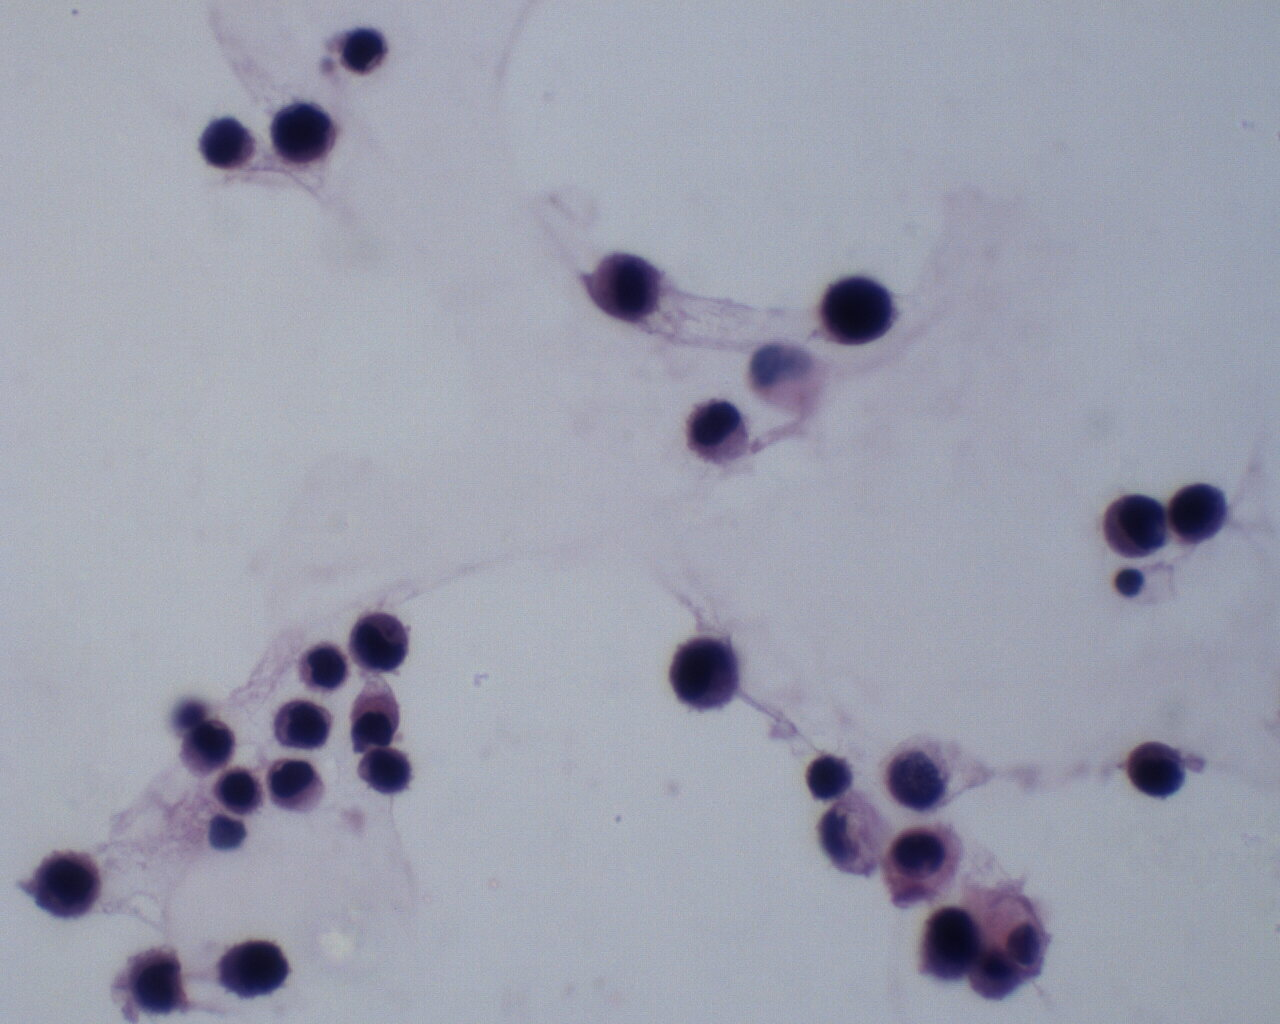ab: (664, 634, 748, 716), (589, 242, 664, 329), (818, 273, 898, 352), (266, 96, 341, 170), (1101, 489, 1170, 566), (32, 850, 103, 922), (213, 937, 295, 999), (1124, 735, 1191, 805), (1170, 475, 1231, 546), (350, 611, 411, 679), (197, 110, 257, 177), (176, 718, 238, 779), (273, 699, 335, 753), (339, 23, 396, 82), (265, 759, 327, 812), (356, 748, 414, 800)
lymph: (1110, 559, 1147, 600)
meso: (878, 821, 971, 905)
